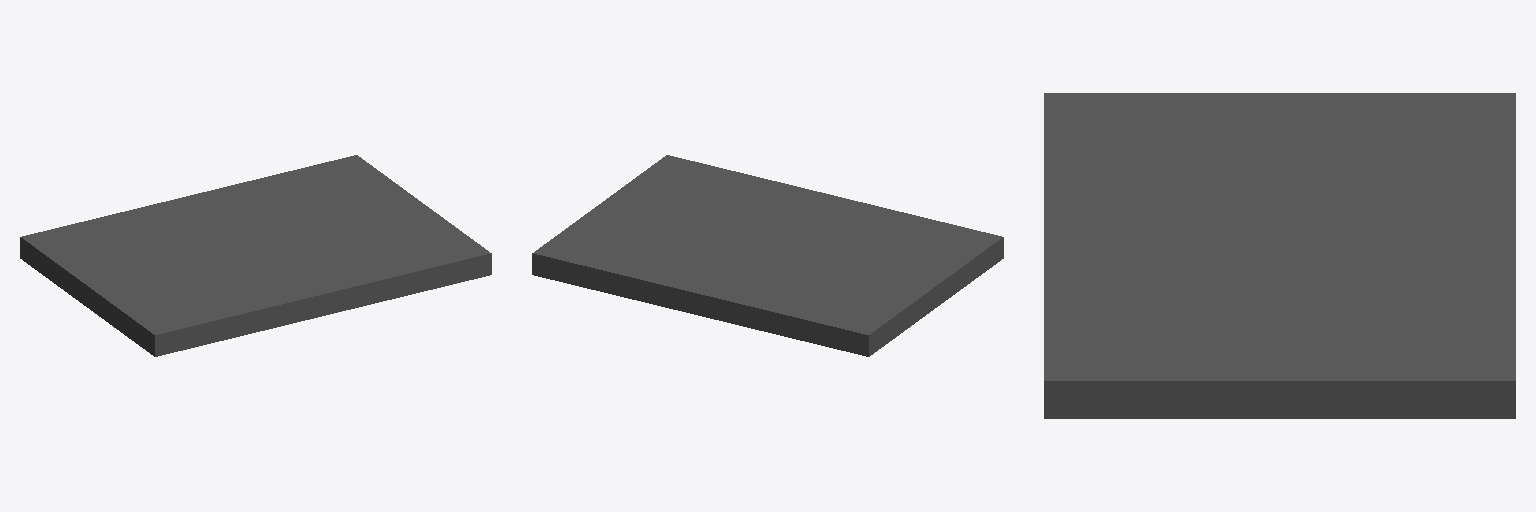
The robot description file, URDF, robot "counter#2":
<?xml version="1.0"?>
<robot name="counter#2">
    <material name="color">
        <color rgba="0.4 0.4 0.4 1"/>
    </material>
      <link name="base">
        <collision name="box_collision">
          <geometry>
            <box size="0.807 0.559 0.05"/>
          </geometry>
        </collision>
        <visual name="box_visual">
    			<origin xyz="0 0 0" rpy="0 0 0"/>
          <material name="color"/>

          <geometry>
            <box size="0.807 0.559 0.05"/>
          </geometry>

        </visual>
        <inertial>
			<mass value="0.3"/>
			<inertia ixx="0.6" ixy="0.0" ixz="0.0" iyy="0.5" iyz="-0.0" izz="0.08"/>
		</inertial>
      </link>
</robot>

--- Render facts (derived) ---
3 views of the same robot in one strip: view 1: azimuth 30°, elevation 25°; view 2: azimuth 150°, elevation 25°; view 3: azimuth 270°, elevation 25° (orthographic).
Robot: counter#2 — 1 links, 0 joints (none); root link base; default pose: every joint at zero.
Links seen in each view (by area): view 1: base; view 2: base; view 3: base.
Boxes of the visible links, x1,y1,x2,y2 form: base: (20,155,491,356); base: (532,155,1003,356); base: (1044,93,1515,418).
Size in the robot's own frame: 0.807 by 0.559 by 0.05 metres.
Geometry: primitives only (box / cylinder / sphere), no mesh files.